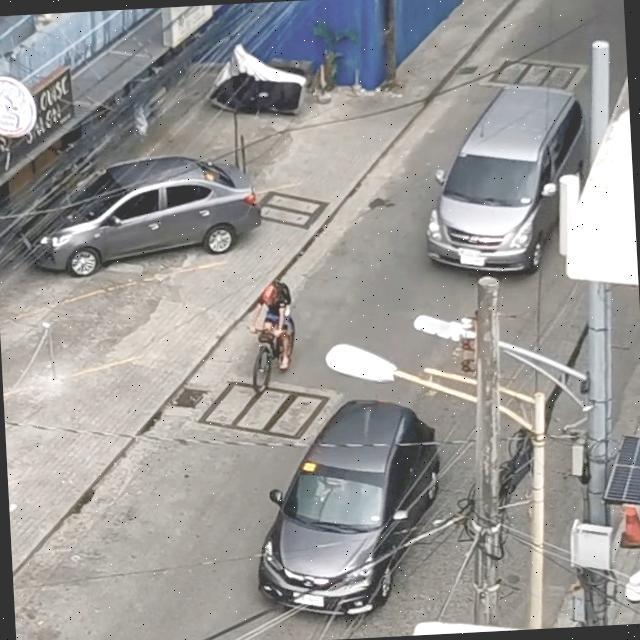Bike: (247, 315, 293, 398)
